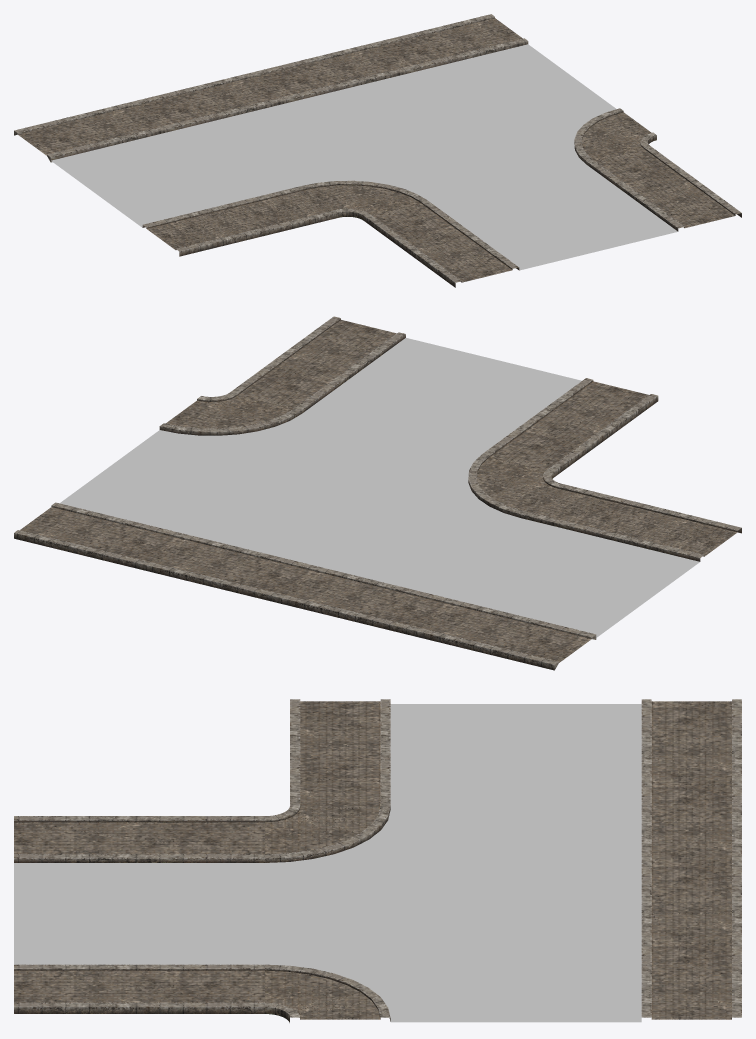
Rendered from Road8C.fbx.
3 renders of one model, top to bottom at view 1: azimuth 30°, elevation 25°; view 2: azimuth 150°, elevation 25°; view 3: azimuth 270°, elevation 25°, orthographic. The views are drawn at different scales.
Parts seen in each view (by area): view 1: polySurface75; view 2: polySurface75; view 3: polySurface75.
Boxes of the visible parts, x1,y1,x2,y2 form: polySurface75: (14, 14, 741, 287); polySurface75: (14, 316, 741, 670); polySurface75: (14, 699, 741, 1022).
Bounding box in the file's own units: 15 × 0.1527 × 14.5.
